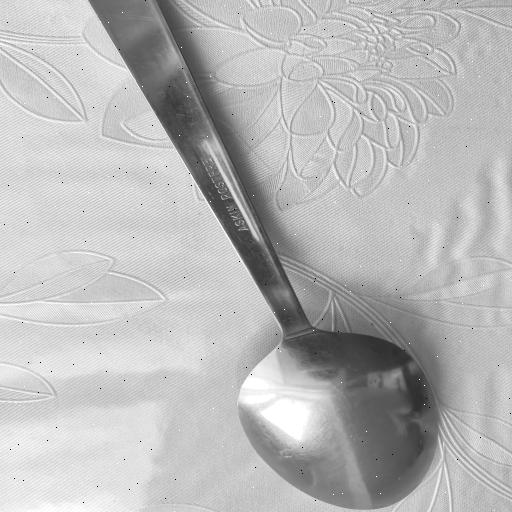spoon: (87, 0, 438, 512)
